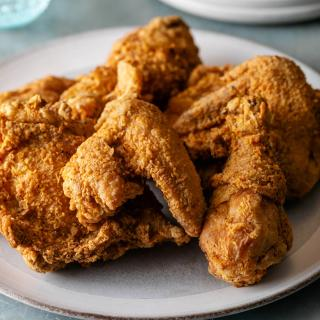fried_chicken_rice: (0, 11, 320, 291)
meat: (0, 76, 320, 294), (91, 15, 205, 110)
